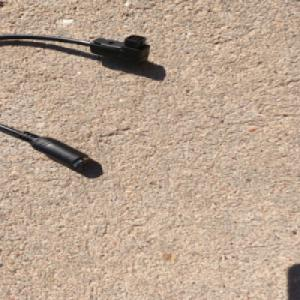Wire: (0, 31, 153, 169)
